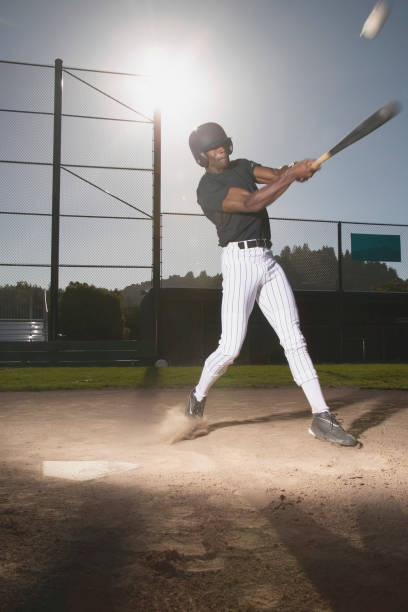bita: (308, 102, 393, 171)
